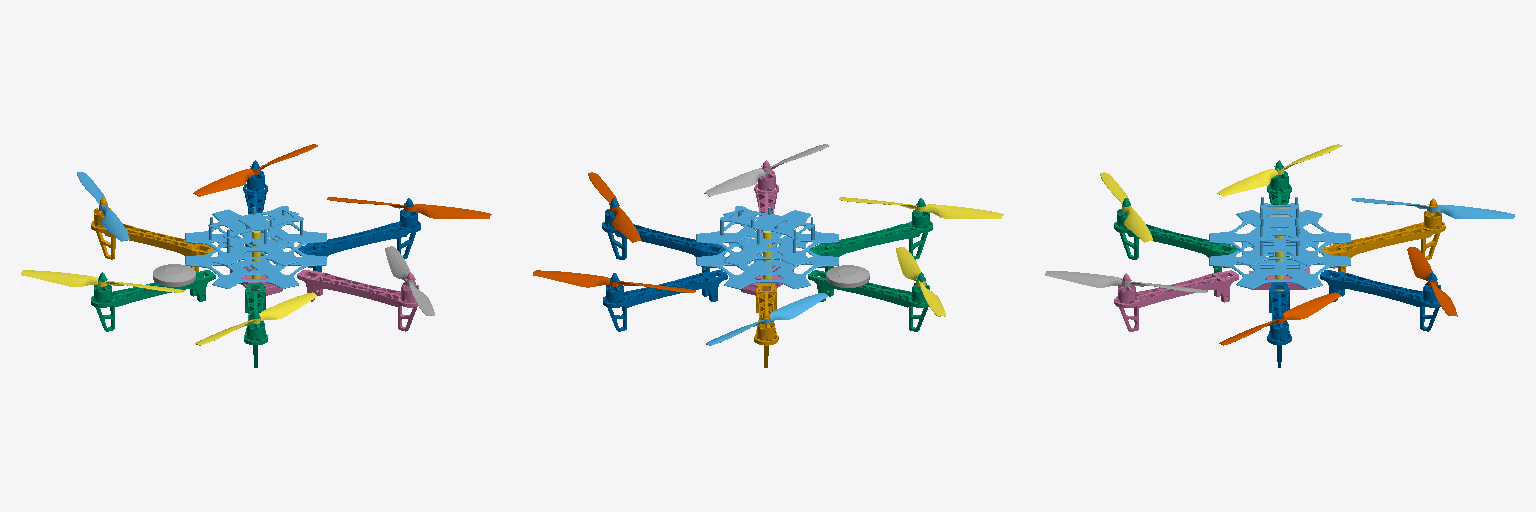
--- What the picture shows (computed from the rendered views, not written in the file) ---
Views: 3 orthographic renders of the robot side by side, from view 1: azimuth 30°, elevation 25°; view 2: azimuth 150°, elevation 25°; view 3: azimuth 270°, elevation 25°.
Model F550_wireless with 20 links and 19 joints (3 revolute, 6 continuous, 10 fixed), rooted at base_link, posed all joints at 0.
Links seen in each view (by area): view 1: base_link_inertia, wing_2, wing_1, wing_0, wing_3, wing_4, rotor_1, rotor_0, rotor_4, rotor_5, rotor_2, rotor_3 (+2 smaller); view 2: base_link_inertia, wing_5, wing_4, wing_1, wing_0, wing_3, rotor_4, rotor_5, rotor_3, rotor_2, rotor_0, rotor_1 (+2 smaller); view 3: base_link_inertia, wing_2, wing_5, wing_3, wing_4, wing_1, rotor_2, rotor_3, rotor_1, rotor_0, rotor_5, rotor_4 (+1 smaller).
Link boxes in pixels (x1,y1,x2,y2): base_link_inertia: [185, 206, 326, 288]; wing_2: [297, 270, 418, 331]; wing_1: [296, 198, 420, 271]; wing_0: [91, 270, 215, 331]; wing_3: [91, 197, 213, 271]; wing_4: [244, 283, 267, 367]; rotor_1: [327, 197, 491, 218]; rotor_0: [21, 270, 184, 292]; rotor_4: [195, 292, 317, 345]; rotor_5: [193, 144, 317, 196]; rotor_2: [385, 246, 434, 315]; rotor_3: [77, 172, 129, 241]; base_link_inertia: [696, 206, 838, 289]; wing_5: [603, 270, 727, 331]; wing_4: [809, 198, 932, 271]; wing_1: [602, 198, 724, 272]; wing_0: [808, 270, 929, 331]; wing_3: [754, 283, 778, 367]; rotor_4: [839, 197, 1003, 218]; rotor_5: [533, 270, 695, 292]; rotor_3: [706, 293, 827, 345]; rotor_2: [704, 144, 828, 196]; rotor_0: [896, 247, 945, 316]; rotor_1: [588, 172, 640, 242]; base_link_inertia: [1209, 197, 1350, 288]; wing_2: [1114, 270, 1238, 331]; wing_5: [1320, 270, 1440, 331]; wing_3: [1322, 198, 1445, 272]; wing_4: [1114, 198, 1237, 272]; wing_1: [1267, 283, 1291, 367]; rotor_2: [1045, 271, 1207, 292]; rotor_3: [1351, 198, 1514, 218]; rotor_1: [1219, 292, 1340, 345]; rotor_0: [1217, 144, 1341, 196]; rotor_5: [1407, 247, 1457, 316]; rotor_4: [1100, 172, 1152, 242].
Bounding box of the posed robot: 0.7395 × 0.7292 × 0.136 m (x, y, z).
Meshes: 9 distinct files referenced, 15 mesh visuals loaded (7 binary STL); not drawn: 2 (reference not matched to a file when rendering).

robot.urdf — F550_wireless:
<?xml version="1.0" ?>
<!-- =================================================================================== -->
<!-- |    This document was autogenerated by xacro from F550_wireless/F550_wireless.xacro | -->
<!-- |    EDITING THIS FILE BY HAND IS NOT RECOMMENDED                                 | -->
<!-- =================================================================================== -->
<robot name="F550_wireless" xmlns:xacro="http://www.ros.org/wiki/xacro">
  <link name="base_link"/>
  <joint name="base_joint" type="fixed">
    <origin rpy="0 0 0" xyz="0 0 0"/>
    <parent link="base_link"/>
    <child link="base_link_inertia"/>
  </joint>
  <!-- base_link -->
  <link name="base_link_inertia">
    <inertial>
      <mass value="1.5"/>
      <!-- [kg] -->
      <origin xyz="0 0 0"/>
      <inertia ixx="0.0213982" ixy="0" ixz="0" iyy="0.021956" iyz="0.000340426" izz="0.0398396"/>
    </inertial>
    <visual>
      <origin rpy="0 0 0" xyz="0 0 0"/>
      <geometry>
        <mesh filename="package://F550/meshes/base_link.STL" scale="1 1 1"/>
      </geometry>
    </visual>
    <collision>
      <origin rpy="0 0 0" xyz="0 0 0"/>
      <geometry>
        <cylinder length="0.13" radius="0.295"/>
      </geometry>
    </collision>
  </link>
  <gazebo>
    <plugin filename="libgazebo_multirotor_base_plugin.so" name="rosbag">
      <robotNamespace></robotNamespace>
      <linkName>base_link</linkName>
      <rotorVelocitySlowdownSim>10</rotorVelocitySlowdownSim>
    </plugin>
  </gazebo>
  <gazebo reference="base_link">
    <material>Gazebo/Black</material>
    <collision name="base_link_inertia_collision">
      <surface>
        <contact>
          <ode>
            <min_depth>0.001</min_depth>
            <max_vel>0.0</max_vel>
          </ode>
        </contact>
        <friction>
          <ode/>
        </friction>
      </surface>
    </collision>
  </gazebo>
  <!-- wing joint -->
  <joint name="wing_0_joint" type="fixed">
    <origin rpy="0 0 2.35619" xyz="-0.21950 -0.17050 -0.04025"/>
    <axis xyz="0 0 0"/>
    <parent link="base_link"/>
    <child link="wing_0"/>
  </joint>
  <!-- wing link -->
  <link name="wing_0">
    <inertial>
      <origin rpy="0 0 0" xyz="0.12144 -0.11968 0.038426"/>
      <mass value="0.11819"/>
      <inertia ixx="0.00031708" ixy="-0.00028166" ixz="0" iyy="0.00031709" iyz="0" izz="0.00057917"/>
    </inertial>
    <visual>
      <geometry>
        <mesh filename="package://F550/meshes/cw_wing.STL" scale="1 1 1"/>
      </geometry>
    </visual>
  </link>
  <gazebo reference="wing_0">
    <material>Gazebo/White</material>
  </gazebo>
  <!-- rotor joint -->
  <joint name="rotor_0_joint" type="continuous">
    <origin rpy="0 0 0" xyz="0.15910 -0.08203 0.059733"/>
    <axis xyz="0 0 1"/>
    <parent link="wing_0"/>
    <child link="rotor_0"/>
  </joint>
  <!-- rotor link -->
  <link name="rotor_0">
    <inertial>
      <origin rpy="0 0 0" xyz="0 0 0.0078525"/>
      <mass value="0.0091837"/>
      <inertia ixx="3.009E-07" ixy="1.5042E-07" ixz="0" iyy="3.4024E-05" iyz="0" izz="3.4239E-05"/>
    </inertial>
    <visual>
      <geometry>
        <mesh filename="package://F550/meshes/cw_prop.STL" scale="1 1 1"/>
      </geometry>
    </visual>
    <collision>
      <geometry>
        <cylinder length="0.03" radius="0.13"/>
      </geometry>
    </collision>
  </link>
  <gazebo>
    <plugin filename="libgazebo_motor_model.so" name="right_motor_model">
      <robotNamespace></robotNamespace>
      <jointName>rotor_0_joint</jointName>
      <linkName>rotor_0</linkName>
      <turningDirection>cw</turningDirection>
      <timeConstantUp>0.0125</timeConstantUp>
      <timeConstantDown>0.025</timeConstantDown>
      <maxRotVelocity>1500</maxRotVelocity>
      <motorConstant>8.54858e-06</motorConstant>
      <momentConstant>0.06</momentConstant>
      <commandSubTopic>/gazebo/command/motor_speed</commandSubTopic>
      <motorNumber>0</motorNumber>
      <rotorDragCoefficient>0.000806428</rotorDragCoefficient>
      <rollingMomentCoefficient>1e-06</rollingMomentCoefficient>
      <motorSpeedPubTopic>/motor_speed/0</motorSpeedPubTopic>
      <rotorVelocitySlowdownSim>10</rotorVelocitySlowdownSim>
    </plugin>
  </gazebo>
  <gazebo reference="rotor_0">
    <material>Gazebo/Black</material>
  </gazebo>
  <!-- wing joint -->
  <joint name="wing_1_joint" type="fixed">
    <origin rpy="0 0 -0.78540" xyz="0.04792 0 -0.04025"/>
    <axis xyz="0 0 0"/>
    <parent link="base_link"/>
    <child link="wing_1"/>
  </joint>
  <!-- wing link -->
  <link name="wing_1">
    <inertial>
      <origin rpy="0 0 0" xyz="0.12144 0.12144 0.038426"/>
      <mass value="0.11819"/>
      <inertia ixx="0.00031708" ixy="-0.00028166" ixz="0" iyy="0.00031709" iyz="0" izz="0.00057917"/>
    </inertial>
    <visual>
      <geometry>
        <mesh filename="package://F550/meshes/ccw_wing.STL" scale="1 1 1"/>
      </geometry>
    </visual>
  </link>
  <gazebo reference="wing_1">
    <material>Gazebo/White</material>
  </gazebo>
  <!-- rotor joint -->
  <joint name="rotor_1_joint" type="continuous">
    <origin rpy="0 0 0" xyz="0.15910 0.15910 0.059733"/>
    <axis xyz="0 0 1"/>
    <parent link="wing_1"/>
    <child link="rotor_1"/>
  </joint>
  <!-- rotor link -->
  <link name="rotor_1">
    <inertial>
      <origin rpy="0 0 0" xyz="0 0 0.0078525"/>
      <mass value="0.0091837"/>
      <inertia ixx="3.00752E-07" ixy="-1.4455E-07" ixz="0" iyy="3.41061E-05" iyz="0" izz="3.43204E-05"/>
    </inertial>
    <visual>
      <geometry>
        <mesh filename="package://F550/meshes/ccw_prop.STL" scale="1 1 1"/>
      </geometry>
    </visual>
    <collision>
      <geometry>
        <cylinder length="0.03" radius="0.13"/>
      </geometry>
    </collision>
  </link>
  <gazebo>
    <plugin filename="libgazebo_motor_model.so" name="left_motor_model">
      <robotNamespace></robotNamespace>
      <jointName>rotor_1_joint</jointName>
      <linkName>rotor_1</linkName>
      <turningDirection>ccw</turningDirection>
      <timeConstantUp>0.0125</timeConstantUp>
      <timeConstantDown>0.025</timeConstantDown>
      <maxRotVelocity>1500</maxRotVelocity>
      <motorConstant>8.54858e-06</motorConstant>
      <momentConstant>0.06</momentConstant>
      <commandSubTopic>/gazebo/command/motor_speed</commandSubTopic>
      <motorNumber>1</motorNumber>
      <rotorDragCoefficient>0.000806428</rotorDragCoefficient>
      <rollingMomentCoefficient>1e-06</rollingMomentCoefficient>
      <motorSpeedPubTopic>/motor_speed/1</motorSpeedPubTopic>
      <rotorVelocitySlowdownSim>10</rotorVelocitySlowdownSim>
    </plugin>
  </gazebo>
  <gazebo reference="rotor_1">
    <material>Gazebo/Orange</material>
  </gazebo>
  <!-- wing joint -->
  <joint name="wing_2_joint" type="fixed">
    <origin rpy="0 0 -1.8326" xyz="0.25843 -0.10426 -0.04025"/>
    <axis xyz="0 0 0"/>
    <parent link="base_link"/>
    <child link="wing_2"/>
  </joint>
  <!-- wing link -->
  <link name="wing_2">
    <inertial>
      <origin rpy="0 0 0" xyz="0.12144 -0.11968 0.038426"/>
      <mass value="0.11819"/>
      <inertia ixx="0.00031708" ixy="-0.00028166" ixz="0" iyy="0.00031709" iyz="0" izz="0.00057917"/>
    </inertial>
    <visual>
      <geometry>
        <mesh filename="package://F550/meshes/cw_wing.STL" scale="1 1 1"/>
      </geometry>
    </visual>
  </link>
  <gazebo reference="wing_2">
    <material>Gazebo/White</material>
  </gazebo>
  <!-- rotor joint -->
  <joint name="rotor_2_joint" type="continuous">
    <origin rpy="0 0 0" xyz="0.15910 -0.08203 0.059733"/>
    <axis xyz="0 0 1"/>
    <parent link="wing_2"/>
    <child link="rotor_2"/>
  </joint>
  <!-- rotor link -->
  <link name="rotor_2">
    <inertial>
      <origin rpy="0 0 0" xyz="0 0 0.0078525"/>
      <mass value="0.0091837"/>
      <inertia ixx="3.009E-07" ixy="1.5042E-07" ixz="0" iyy="3.4024E-05" iyz="0" izz="3.4239E-05"/>
    </inertial>
    <visual>
      <geometry>
        <mesh filename="package://F550/meshes/cw_prop.STL" scale="1 1 1"/>
      </geometry>
    </visual>
    <collision>
      <geometry>
        <cylinder length="0.03" radius="0.13"/>
      </geometry>
    </collision>
  </link>
  <gazebo>
    <plugin filename="libgazebo_motor_model.so" name="left_front_motor_model">
      <robotNamespace></robotNamespace>
      <jointName>rotor_2_joint</jointName>
      <linkName>rotor_2</linkName>
      <turningDirection>cw</turningDirection>
      <timeConstantUp>0.0125</timeConstantUp>
      <timeConstantDown>0.025</timeConstantDown>
      <maxRotVelocity>1500</maxRotVelocity>
      <motorConstant>8.54858e-06</motorConstant>
      <momentConstant>0.06</momentConstant>
      <commandSubTopic>/gazebo/command/motor_speed</commandSubTopic>
      <motorNumber>2</motorNumber>
      <rotorDragCoefficient>0.000806428</rotorDragCoefficient>
      <rollingMomentCoefficient>1e-06</rollingMomentCoefficient>
      <motorSpeedPubTopic>/motor_speed/2</motorSpeedPubTopic>
      <rotorVelocitySlowdownSim>10</rotorVelocitySlowdownSim>
    </plugin>
  </gazebo>
  <gazebo reference="rotor_2">
    <material>Gazebo/Black</material>
  </gazebo>
  <!-- wing joint -->
  <joint name="wing_3_joint" type="fixed">
    <origin rpy="0 0 1.30900" xyz="-0.02299 0.04331 -0.04025"/>
    <axis xyz="0 0 0"/>
    <parent link="base_link"/>
    <child link="wing_3"/>
  </joint>
  <!-- wing link -->
  <link name="wing_3">
    <inertial>
      <origin rpy="0 0 0" xyz="0.12144 0.12144 0.038426"/>
      <mass value="0.11819"/>
      <inertia ixx="0.00031708" ixy="-0.00028166" ixz="0" iyy="0.00031709" iyz="0" izz="0.00057917"/>
    </inertial>
    <visual>
      <geometry>
        <mesh filename="package://F550/meshes/ccw_wing.STL" scale="1 1 1"/>
      </geometry>
    </visual>
  </link>
  <gazebo reference="wing_3">
    <material>Gazebo/Red</material>
  </gazebo>
  <!-- rotor joint -->
  <joint name="rotor_3_joint" type="continuous">
    <origin rpy="0 0 0" xyz="0.15910 0.15910 0.059733"/>
    <axis xyz="0 0 1"/>
    <parent link="wing_3"/>
    <child link="rotor_3"/>
  </joint>
  <!-- rotor link -->
  <link name="rotor_3">
    <inertial>
      <origin rpy="0 0 0" xyz="0 0 0.0078525"/>
      <mass value="0.0091837"/>
      <inertia ixx="3.00752E-07" ixy="-1.4455E-07" ixz="0" iyy="3.41061E-05" iyz="0" izz="3.43204E-05"/>
    </inertial>
    <visual>
      <geometry>
        <mesh filename="package://F550/meshes/ccw_prop.STL" scale="1 1 1"/>
      </geometry>
    </visual>
    <collision>
      <geometry>
        <cylinder length="0.03" radius="0.13"/>
      </geometry>
    </collision>
  </link>
  <gazebo>
    <plugin filename="libgazebo_motor_model.so" name="right_rear_motor_model">
      <robotNamespace></robotNamespace>
      <jointName>rotor_3_joint</jointName>
      <linkName>rotor_3</linkName>
      <turningDirection>ccw</turningDirection>
      <timeConstantUp>0.0125</timeConstantUp>
      <timeConstantDown>0.025</timeConstantDown>
      <maxRotVelocity>1500</maxRotVelocity>
      <motorConstant>8.54858e-06</motorConstant>
      <momentConstant>0.06</momentConstant>
      <commandSubTopic>/gazebo/command/motor_speed</commandSubTopic>
      <motorNumber>3</motorNumber>
      <rotorDragCoefficient>0.000806428</rotorDragCoefficient>
      <rollingMomentCoefficient>1e-06</rollingMomentCoefficient>
      <motorSpeedPubTopic>/motor_speed/3</motorSpeedPubTopic>
      <rotorVelocitySlowdownSim>10</rotorVelocitySlowdownSim>
    </plugin>
  </gazebo>
  <gazebo reference="rotor_3">
    <material>Gazebo/Orange</material>
  </gazebo>
  <!-- wing joint -->
  <joint name="wing_4_joint" type="fixed">
    <origin rpy="0 0 -2.87979" xyz="-0.02514 -0.04206 -0.04025"/>
    <axis xyz="0 0 0"/>
    <parent link="base_link"/>
    <child link="wing_4"/>
  </joint>
  <!-- wing link -->
  <link name="wing_4">
    <inertial>
      <origin rpy="0 0 0" xyz="0.12144 0.12144 0.038426"/>
      <mass value="0.11819"/>
      <inertia ixx="0.00031708" ixy="-0.00028166" ixz="0" iyy="0.00031709" iyz="0" izz="0.00057917"/>
    </inertial>
    <visual>
      <geometry>
        <mesh filename="package://F550/meshes/ccw_wing.STL" scale="1 1 1"/>
      </geometry>
    </visual>
  </link>
  <gazebo reference="wing_4">
    <material>Gazebo/White</material>
  </gazebo>
  <!-- rotor joint -->
  <joint name="rotor_4_joint" type="continuous">
    <origin rpy="0 0 0" xyz="0.15910 0.15910 0.059733"/>
    <axis xyz="0 0 1"/>
    <parent link="wing_4"/>
    <child link="rotor_4"/>
  </joint>
  <!-- rotor link -->
  <link name="rotor_4">
    <inertial>
      <origin rpy="0 0 0" xyz="0 0 0.0078525"/>
      <mass value="0.0091837"/>
      <inertia ixx="3.00752E-07" ixy="-1.4455E-07" ixz="0" iyy="3.41061E-05" iyz="0" izz="3.43204E-05"/>
    </inertial>
    <visual>
      <geometry>
        <mesh filename="package://F550/meshes/ccw_prop.STL" scale="1 1 1"/>
      </geometry>
    </visual>
    <collision>
      <geometry>
        <cylinder length="0.03" radius="0.13"/>
      </geometry>
    </collision>
  </link>
  <gazebo>
    <plugin filename="libgazebo_motor_model.so" name="right_front_motor_model">
      <robotNamespace></robotNamespace>
      <jointName>rotor_4_joint</jointName>
      <linkName>rotor_4</linkName>
      <turningDirection>ccw</turningDirection>
      <timeConstantUp>0.0125</timeConstantUp>
      <timeConstantDown>0.025</timeConstantDown>
      <maxRotVelocity>1500</maxRotVelocity>
      <motorConstant>8.54858e-06</motorConstant>
      <momentConstant>0.06</momentConstant>
      <commandSubTopic>/gazebo/command/motor_speed</commandSubTopic>
      <motorNumber>4</motorNumber>
      <rotorDragCoefficient>0.000806428</rotorDragCoefficient>
      <rollingMomentCoefficient>1e-06</rollingMomentCoefficient>
      <motorSpeedPubTopic>/motor_speed/4</motorSpeedPubTopic>
      <rotorVelocitySlowdownSim>10</rotorVelocitySlowdownSim>
    </plugin>
  </gazebo>
  <gazebo reference="rotor_4">
    <material>Gazebo/Orange</material>
  </gazebo>
  <!-- wing joint -->
  <joint name="wing_5_joint" type="fixed">
    <origin rpy="0 0 0.261800" xyz="-0.03913 0.27481 -0.04025"/>
    <axis xyz="0 0 0"/>
    <parent link="base_link"/>
    <child link="wing_5"/>
  </joint>
  <!-- wing link -->
  <link name="wing_5">
    <inertial>
      <origin rpy="0 0 0" xyz="0.12144 -0.11968 0.038426"/>
      <mass value="0.11819"/>
      <inertia ixx="0.00031708" ixy="-0.00028166" ixz="0" iyy="0.00031709" iyz="0" izz="0.00057917"/>
    </inertial>
    <visual>
      <geometry>
        <mesh filename="package://F550/meshes/cw_wing.STL" scale="1 1 1"/>
      </geometry>
    </visual>
  </link>
  <gazebo reference="wing_5">
    <material>Gazebo/Red</material>
  </gazebo>
  <!-- rotor joint -->
  <joint name="rotor_5_joint" type="continuous">
    <origin rpy="0 0 0" xyz="0.15910 -0.08203 0.059733"/>
    <axis xyz="0 0 1"/>
    <parent link="wing_5"/>
    <child link="rotor_5"/>
  </joint>
  <!-- rotor link -->
  <link name="rotor_5">
    <inertial>
      <origin rpy="0 0 0" xyz="0 0 0.0078525"/>
      <mass value="0.0091837"/>
      <inertia ixx="3.009E-07" ixy="1.5042E-07" ixz="0" iyy="3.4024E-05" iyz="0" izz="3.4239E-05"/>
    </inertial>
    <visual>
      <geometry>
        <mesh filename="package://F550/meshes/cw_prop.STL" scale="1 1 1"/>
      </geometry>
    </visual>
    <collision>
      <geometry>
        <cylinder length="0.03" radius="0.13"/>
      </geometry>
    </collision>
  </link>
  <gazebo>
    <plugin filename="libgazebo_motor_model.so" name="left_rear_motor_model">
      <robotNamespace></robotNamespace>
      <jointName>rotor_5_joint</jointName>
      <linkName>rotor_5</linkName>
      <turningDirection>cw</turningDirection>
      <timeConstantUp>0.0125</timeConstantUp>
      <timeConstantDown>0.025</timeConstantDown>
      <maxRotVelocity>1500</maxRotVelocity>
      <motorConstant>8.54858e-06</motorConstant>
      <momentConstant>0.06</momentConstant>
      <commandSubTopic>/gazebo/command/motor_speed</commandSubTopic>
      <motorNumber>5</motorNumber>
      <rotorDragCoefficient>0.000806428</rotorDragCoefficient>
      <rollingMomentCoefficient>1e-06</rollingMomentCoefficient>
      <motorSpeedPubTopic>/motor_speed/5</motorSpeedPubTopic>
      <rotorVelocitySlowdownSim>10</rotorVelocitySlowdownSim>
    </plugin>
  </gazebo>
  <gazebo reference="rotor_5">
    <material>Gazebo/Black</material>
  </gazebo>
  <!-- link -->
  <link name="fcu_px2">
    <inertial>
      <origin rpy="0 0 0" xyz="0.002093 0.00024832 -0.0059171"/>
      <mass value="0.25"/>
      <inertia ixx="7.9881E-06" ixy="1.4254E-07" ixz="9.5267E-07" iyy="3.4253E-05" iyz="-1.0276E-08" izz="4.0844E-05"/>
    </inertial>
    <visual>
      <geometry>
        <mesh filename="package://F550/meshes/fcu_px2.STL" scale="1 1 1"/>
      </geometry>
    </visual>
  </link>
  <gazebo reference="fcu_px2">
    <material>Gazebo/FlatBlack</material>
  </gazebo>
  <!-- joint -->
  <joint name="fcu_px2_fix" type="fixed">
    <origin rpy="3.14159 0 1.5708" xyz="0 0 -0.039497"/>
    <parent link="base_link"/>
    <child link="fcu_px2"/>
    <axis xyz="0 0 0"/>
  </joint>
  <!-- link -->
  <link name="gps_here">
    <inertial>
      <origin rpy="0 0 0" xyz="0 0 0.0084082"/>
      <mass value="0.0"/>
      <inertia ixx="2.9868E-05" ixy="0" ixz="0" iyy="2.9724E-05" iyz="4.7726E-08" izz="5.5952E-05"/>
    </inertial>
    <visual>
      <geometry>
        <mesh filename="package://F550/meshes/gps_here.STL" scale="1 1 1"/>
      </geometry>
    </visual>
  </link>
  <gazebo reference="gps_here">
    <material>Gazebo/DarkGrey</material>
  </gazebo>
  <!-- joint -->
  <joint name="gps_here_fix" type="fixed">
    <origin rpy="3.14159 0 -1.5708" xyz="0.001985 -0.145 -0.037997"/>
    <parent link="fcu_px2"/>
    <child link="gps_here"/>
    <axis xyz="0 0 0"/>
  </joint>
  <gazebo>
    <plugin filename="libgazebo_gps_plugin.so" name="gps_plugin">
      <robotNamespace></robotNamespace>
      <gpsNoise>true</gpsNoise>
    </plugin>
  </gazebo>
  <gazebo>
    <plugin filename="libgazebo_mavlink_interface.so" name="mavlink_interface">
      <robotNamespace></robotNamespace>
      <imuSubTopic>/imu</imuSubTopic>
      <gpsSubTopic>/gps</gpsSubTopic>
      <mavlink_addr>INADDR_ANY</mavlink_addr>
      <mavlink_udp_port>14560</mavlink_udp_port>
      <serialEnabled>false</serialEnabled>
      <serialDevice>/dev/ttyACM0</serialDevice>
      <baudRate>921600</baudRate>
      <qgc_addr>INADDR_ANY</qgc_addr>
      <qgc_udp_port>14550</qgc_udp_port>
      <hil_mode>false</hil_mode>
      <hil_state_level>false</hil_state_level>
      <vehicle_is_tailsitter>false</vehicle_is_tailsitter>
      <send_odometry>false</send_odometry>
      <motorSpeedCommandPubTopic>/gazebo/command/motor_speed</motorSpeedCommandPubTopic>
      <control_channels>
        <channel name="rotor1">
          <input_index>0</input_index>
          <input_offset>0</input_offset>
          <input_scaling>1000</input_scaling>
          <zero_position_disarmed>0</zero_position_disarmed>
          <zero_position_armed>100</zero_position_armed>
          <joint_control_type>velocity</joint_control_type>
          <joint_name>rotor_0_joint</joint_name>
        </channel>
        <channel name="rotor2">
          <input_index>1</input_index>
          <input_offset>0</input_offset>
          <input_scaling>1000</input_scaling>
          <zero_position_disarmed>0</zero_position_disarmed>
          <zero_position_armed>100</zero_position_armed>
          <joint_control_type>velocity</joint_control_type>
          <joint_name>rotor_1_joint</joint_name>
        </channel>
        <channel name="rotor3">
          <input_index>2</input_index>
          <input_offset>0</input_offset>
          <input_scaling>1000</input_scaling>
          <zero_position_disarmed>0</zero_position_disarmed>
          <zero_position_armed>100</zero_position_armed>
          <joint_control_type>velocity</joint_control_type>
          <joint_name>rotor_2_joint</joint_name>
        </channel>
        <channel name="rotor4">
          <input_index>3</input_index>
          <input_offset>0</input_offset>
          <input_scaling>1000</input_scaling>
          <zero_position_disarmed>0</zero_position_disarmed>
          <zero_position_armed>100</zero_position_armed>
          <joint_control_type>velocity</joint_control_type>
          <joint_name>rotor_3_joint</joint_name>
        </channel>
        <channel name="rotor5">
          <input_index>4</input_index>
          <input_offset>0</input_offset>
          <input_scaling>1000</input_scaling>
          <zero_position_disarmed>0</zero_position_disarmed>
          <zero_position_armed>100</zero_position_armed>
          <joint_control_type>velocity</joint_control_type>
          <joint_name>rotor_4_joint</joint_name>
        </channel>
        <channel name="rotor6">
          <input_index>5</input_index>
          <input_offset>0</input_offset>
          <input_scaling>1000</input_scaling>
          <zero_position_disarmed>0</zero_position_disarmed>
          <zero_position_armed>100</zero_position_armed>
          <joint_control_type>velocity</joint_control_type>
          <joint_name>rotor_5_joint</joint_name>
        </channel>
      </control_channels>
    </plugin>
  </gazebo>
  <static>0</static>
  <!-- IMU Link -->
  <link name="/imu_link">
    <inertial>
      <inertia ixx="1e-05" ixy="0" ixz="0" iyy="1e-05" iyz="0" izz="1e-05"/>
      <mass value="0.015"/>
      <!-- kg -->
      <origin rpy="0 0 0" xyz="0 0 0"/>
    </inertial>
  </link>
  <!-- IMU Joint -->
  <joint name="/imu_joint" type="revolute">
    <origin rpy="0 0 0" xyz="0 0 0"/>
    <parent link="base_link"/>
    <child link="/imu_link"/>
    <limit effort="0" lower="0" upper="0" velocity="0"/>
  </joint>
  <gazebo>
    <plugin filename="libgazebo_imu_plugin.so" name="rotors_gazebo_imu_plugin">
      <!-- See below for the details of parameters:
            https://github.com/ethz-asl/kalibr/wiki/IMU-Noise-Model-and-Intrinsics -->
      <robotNamespace></robotNamespace>
      <linkName>/imu_link</linkName>
      <imuTopic>/imu</imuTopic>
      <gyroscopeNoiseDensity>0.0003394</gyroscopeNoiseDensity>
      <gyroscopeRandomWalk>3.8785e-05</gyroscopeRandomWalk>
      <gyroscopeBiasCorrelationTime>1000.0</gyroscopeBiasCorrelationTime>
      <gyroscopeTurnOnBiasSigma>0.0087</gyroscopeTurnOnBiasSigma>
      <accelerometerNoiseDensity>0.004</accelerometerNoiseDensity>
      <accelerometerRandomWalk>0.006</accelerometerRandomWalk>
      <accelerometerBiasCorrelationTime>300.0</accelerometerBiasCorrelationTime>
      <accelerometerTurnOnBiasSigma>0.196</accelerometerTurnOnBiasSigma>
    </plugin>
  </gazebo>
  <!-- LiDAR Link -->
  <link name="lidar_link">
    <inertial>
      <mass value="0.3"/>
      <inertia ixx="0.00023701" ixy="0" ixz="0" iyy="0.00023618" iyz="0" izz="0.00014751"/>
    </inertial>
    <visual>
      <geometry>
        <mesh filename="package://F550_rd/meshes/hokuyo.STL" scale="1 1 1"/>
      </geometry>
    </visual>
  </link>
  <!-- Joint -->
  <joint name="lidar_joint" type="revolute">
    <origin rpy="0 0 3.14" xyz="0 0.01 0.026"/>
    <child link="lidar_link"/>
    <parent link="base_link"/>
    <limit effort="0" lower="0" upper="0" velocity="0"/>
  </joint>
  <!-- Sensor -->
  <gazebo reference="lidar_link">
    <material>Gazebo/DarkGrey</material>
    <sensor name="laser" type="ray">
      <pose>0 -0.03 0.055 0 0 -1.57</pose>
      <ray>
        <scan>
          <horizontal>
            <samples>720</samples>
            <resolution>1</resolution>
            <min_angle>-2.0944</min_angle>
            <max_angle>2.0944</max_angle>
          </horizontal>
        </scan>
        <range>
          <min>0.1</min>
          <max>30</max>
          <resolution>0.01</resolution>
        </range>
        <noise>
          <type>gaussian</type>
          <mean>0.0</mean>
          <stddev>0.01</stddev>
        </noise>
      </ray>
      <plugin filename="libgazebo_ros_laser.so" name="LaserPlugin">
        <topicName>/laser/scan</topicName>
        <frameName>lidar_link</frameName>
      </plugin>
      <always_on>1</always_on>
      <update_rate>40</update_rate>
      <visualize>true</visualize>
    </sensor>
  </gazebo>
  <!-- Odroid -->
  <link name="odroid_link">
    <inertial>
      <origin rpy="0 0 0" xyz="0.0057413 0.00030748 -0.0052843"/>
      <mass value="0.08"/>
      <inertia ixx="4.4834E-06" ixy="3.2726E-07" ixz="1.7419E-07" iyy="6.5755E-06" iyz="1.4639E-08" izz="1.0308E-05"/>
    </inertial>
    <visual>
      <origin rpy="3.14 0 0" xyz="0 0 0"/>
      <geometry>
        <mesh filename="package://F550_rd/meshes/odroid.STL" scale="1 1 1"/>
      </geometry>
    </visual>
  </link>
  <joint name="odoroid_joint" type="fixed">
    <child link="odroid_link"/>
    <parent link="base_link"/>
    <origin rpy="0 0 1.57" xyz="0 -0.032 0.038"/>
  </joint>
  <gazebo reference="odroid_link">
    <material>Gazebo/DarkGrey</material>
  </gazebo>
  <link name="wifi_rec_link">
    <inertial>
      <mass value="0.001"/>
    </inertial>
    <visual name="antenna">
      <geometry>
        <cylinder length="0.1" radius="0.007"/>
      </geometry>
    </visual>
  </link>
  <joint name="wifi_rec_joint" type="revolute">
    <origin rpy="0 0 3" xyz="0 0 0"/>
    <child link="wifi_rec_link"/>
    <parent link="base_link"/>
    <limit effort="0" lower="0" upper="0" velocity="0"/>
  </joint>
  <gazebo reference="wifi_rec_link">
    <sensor name="wirelessReceiver" type="wireless_receiver">
      <plugin filename="libwirelessReceiver.so" name="receiver_plugin"/>
      <always_on>1</always_on>
      <update_rate>1</update_rate>
      <visualize>true</visualize>
      <transceiver>
        <min_frequency>2400.0</min_frequency>
        <max_frequency>2490.0</max_frequency>
        <power>14.5</power>
        <gain>2.5</gain>
        <sensitivity>-90.0</sensitivity>
      </transceiver>
    </sensor>
  </gazebo>
</robot>
